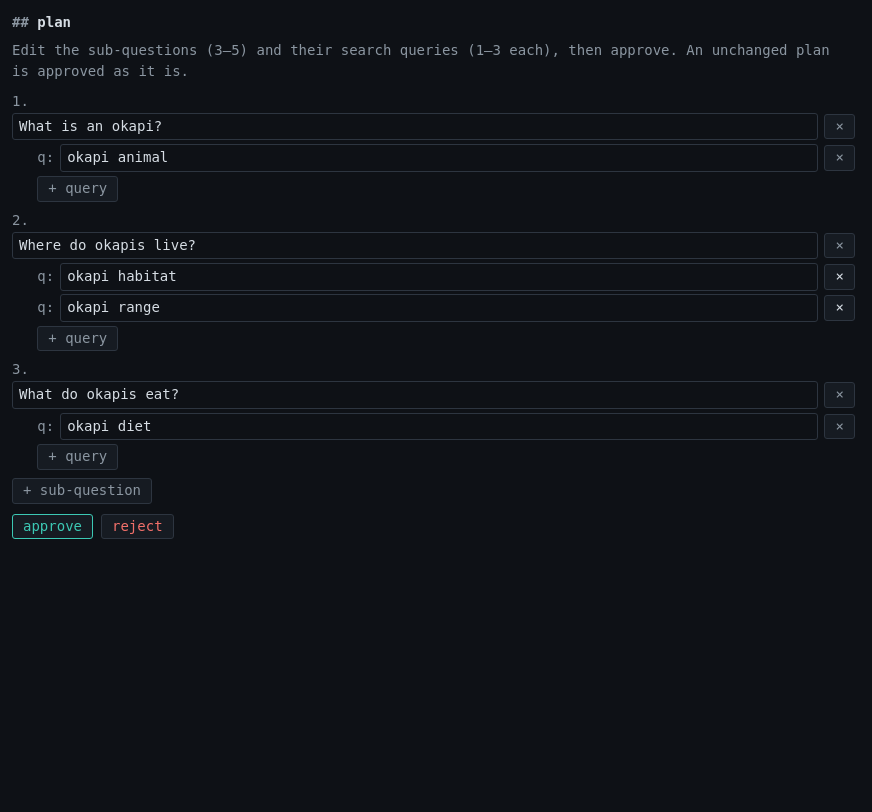
PlanEditor › keeps sub-questions within 3-5 and queries within 1-3
Click the button "+ sub-question".
click(82, 491)  # box x1=12 y1=478 x2=152 y2=504
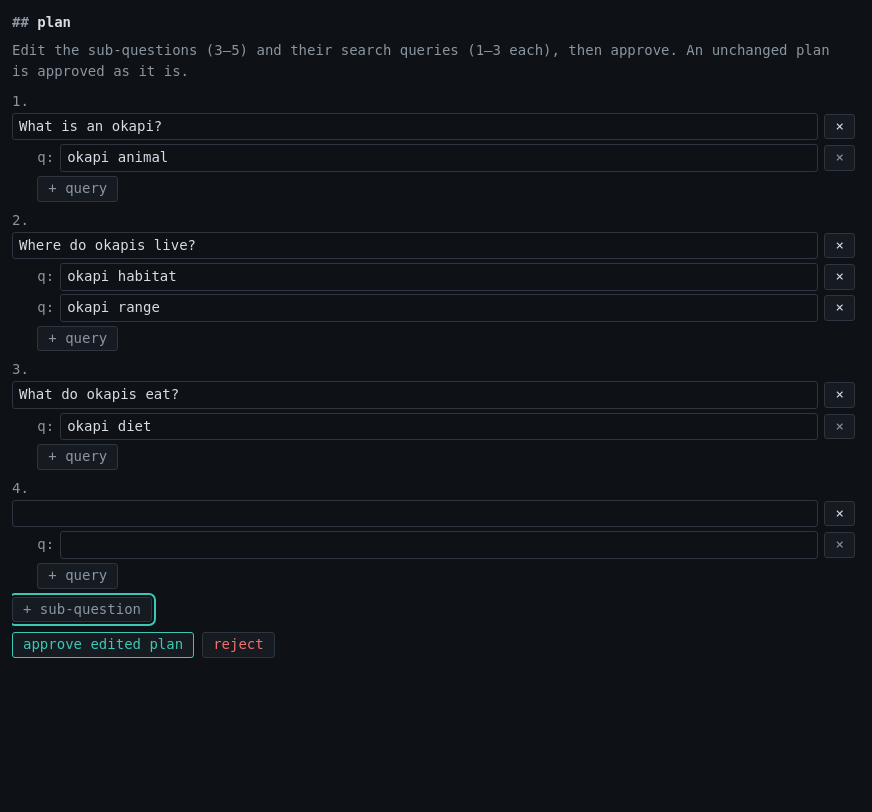
Click the button "+ sub-question".
click(82, 610)  # box x1=12 y1=597 x2=152 y2=622
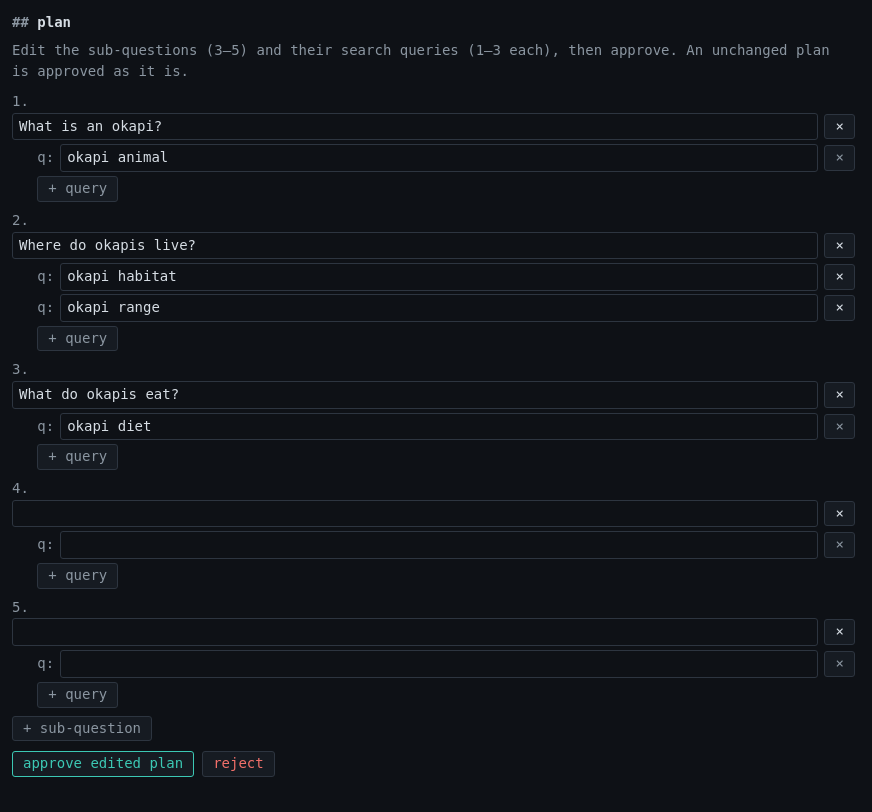
Expected: the button "+ sub-question" is disabled, x1=12 y1=716 x2=152 y2=741
Click the button with aria-label "Add query to sub-question 2".
click(78, 338)  # box x1=37 y1=326 x2=118 y2=351
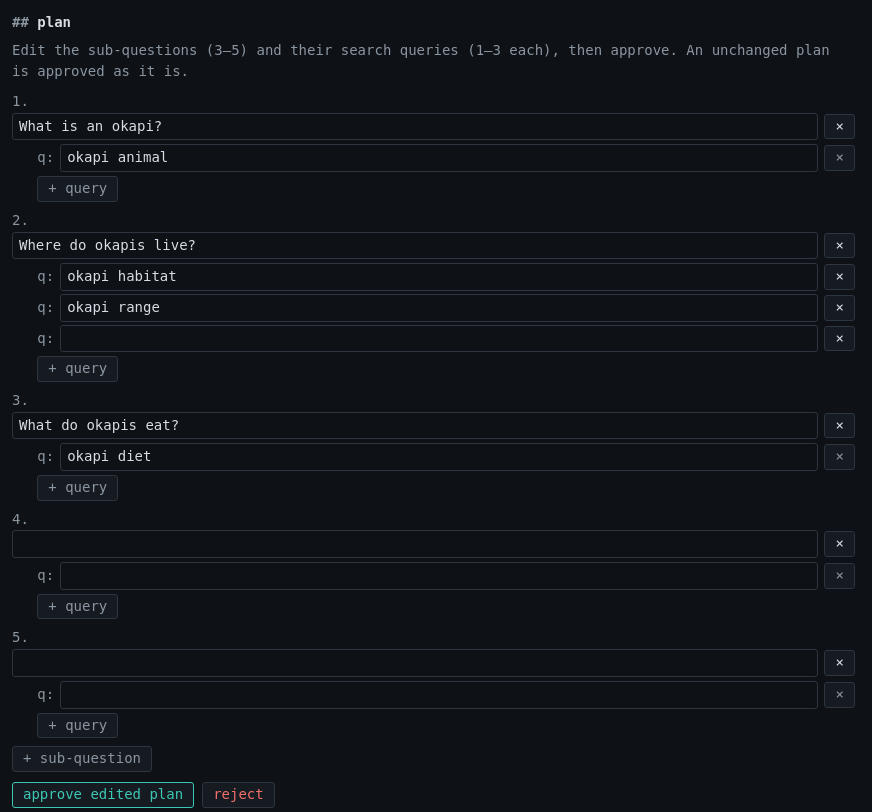
Expected: the button named "Remove query 1 of sub-question 1" is disabled, x1=824 y1=145 x2=855 y2=171
Expected: the button with aria-label "Add query to sub-question 2" is disabled, x1=37 y1=356 x2=118 y2=382
